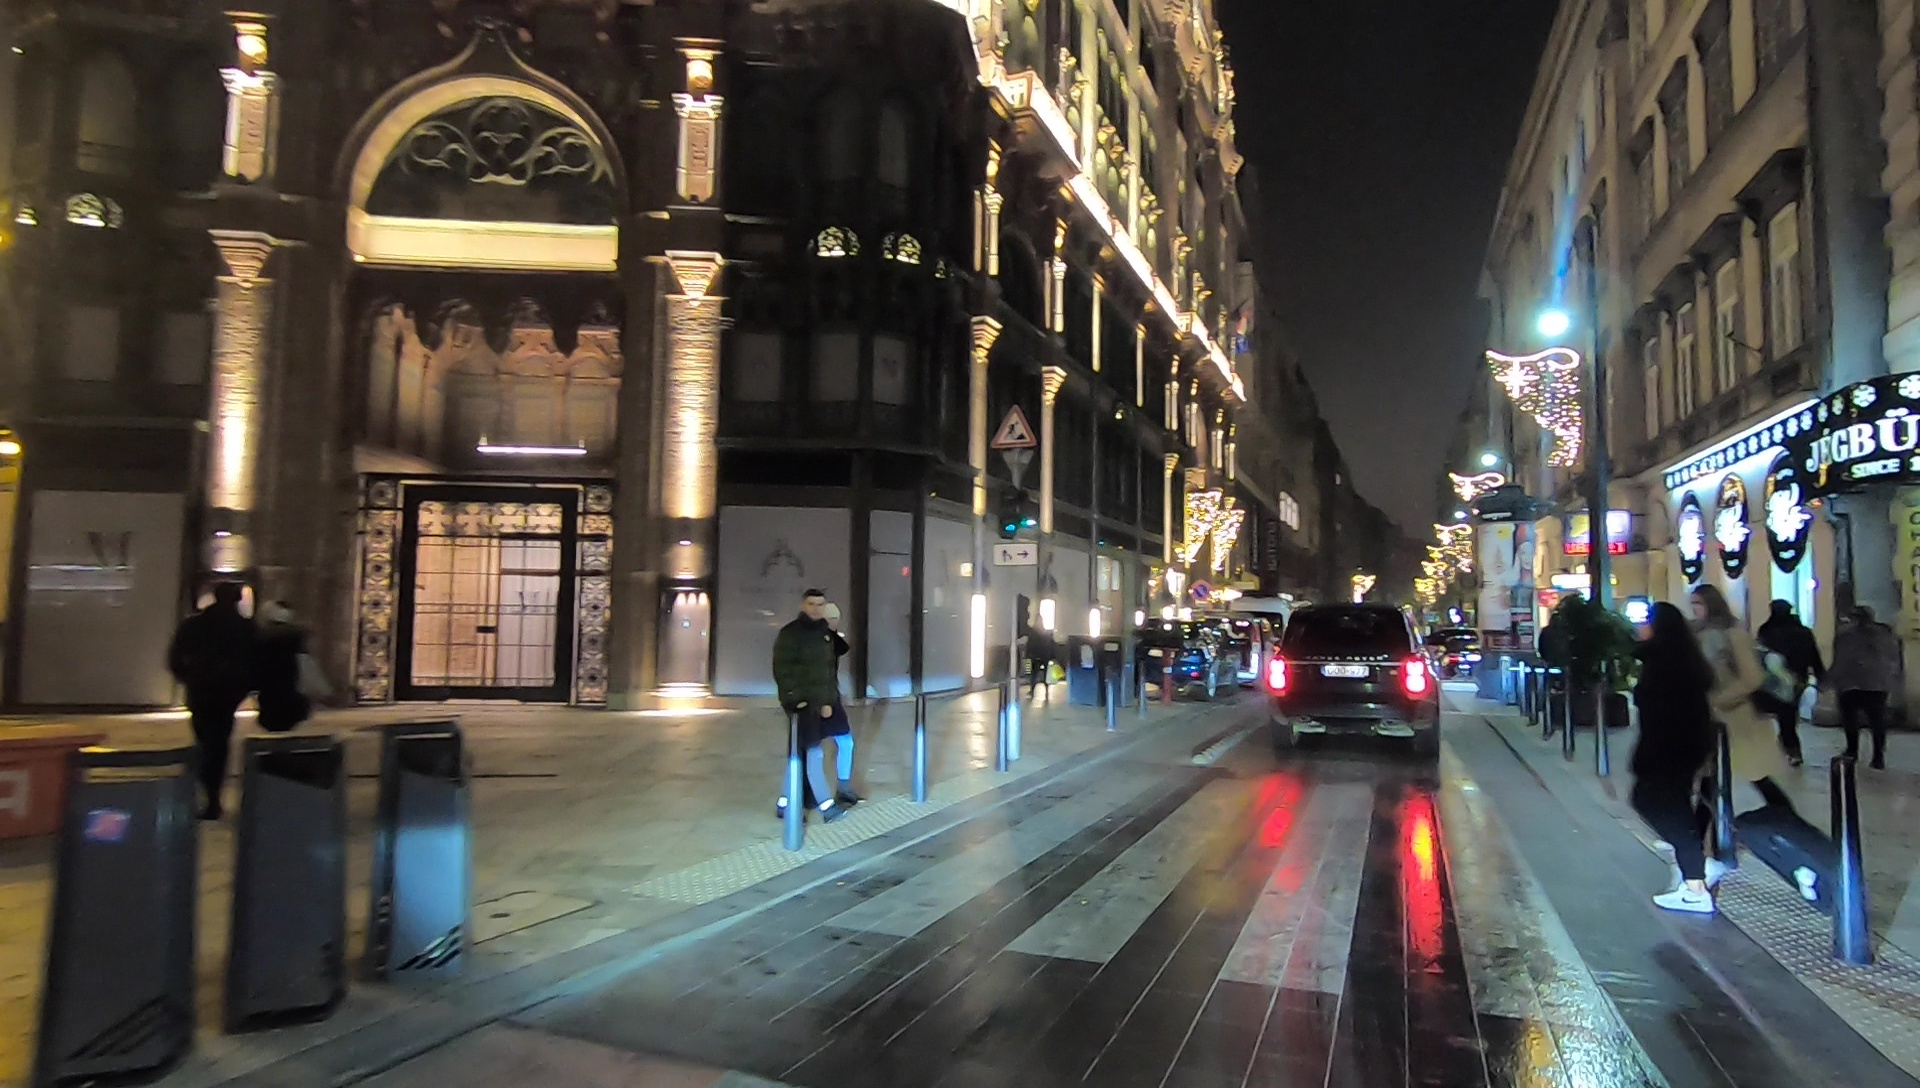person: (1689, 583, 1801, 858), (1634, 603, 1726, 911), (173, 583, 253, 813), (776, 592, 842, 823), (251, 594, 316, 805), (1827, 598, 1897, 775), (1759, 592, 1822, 772), (1022, 613, 1056, 704)
